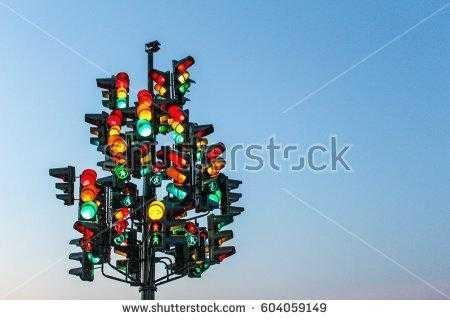1: (151, 232, 162, 248)
9: (148, 202, 166, 222), (80, 187, 96, 204), (138, 108, 152, 124), (172, 121, 186, 134)
red traffic light: (78, 201, 98, 221), (137, 122, 152, 142), (173, 134, 187, 146)
